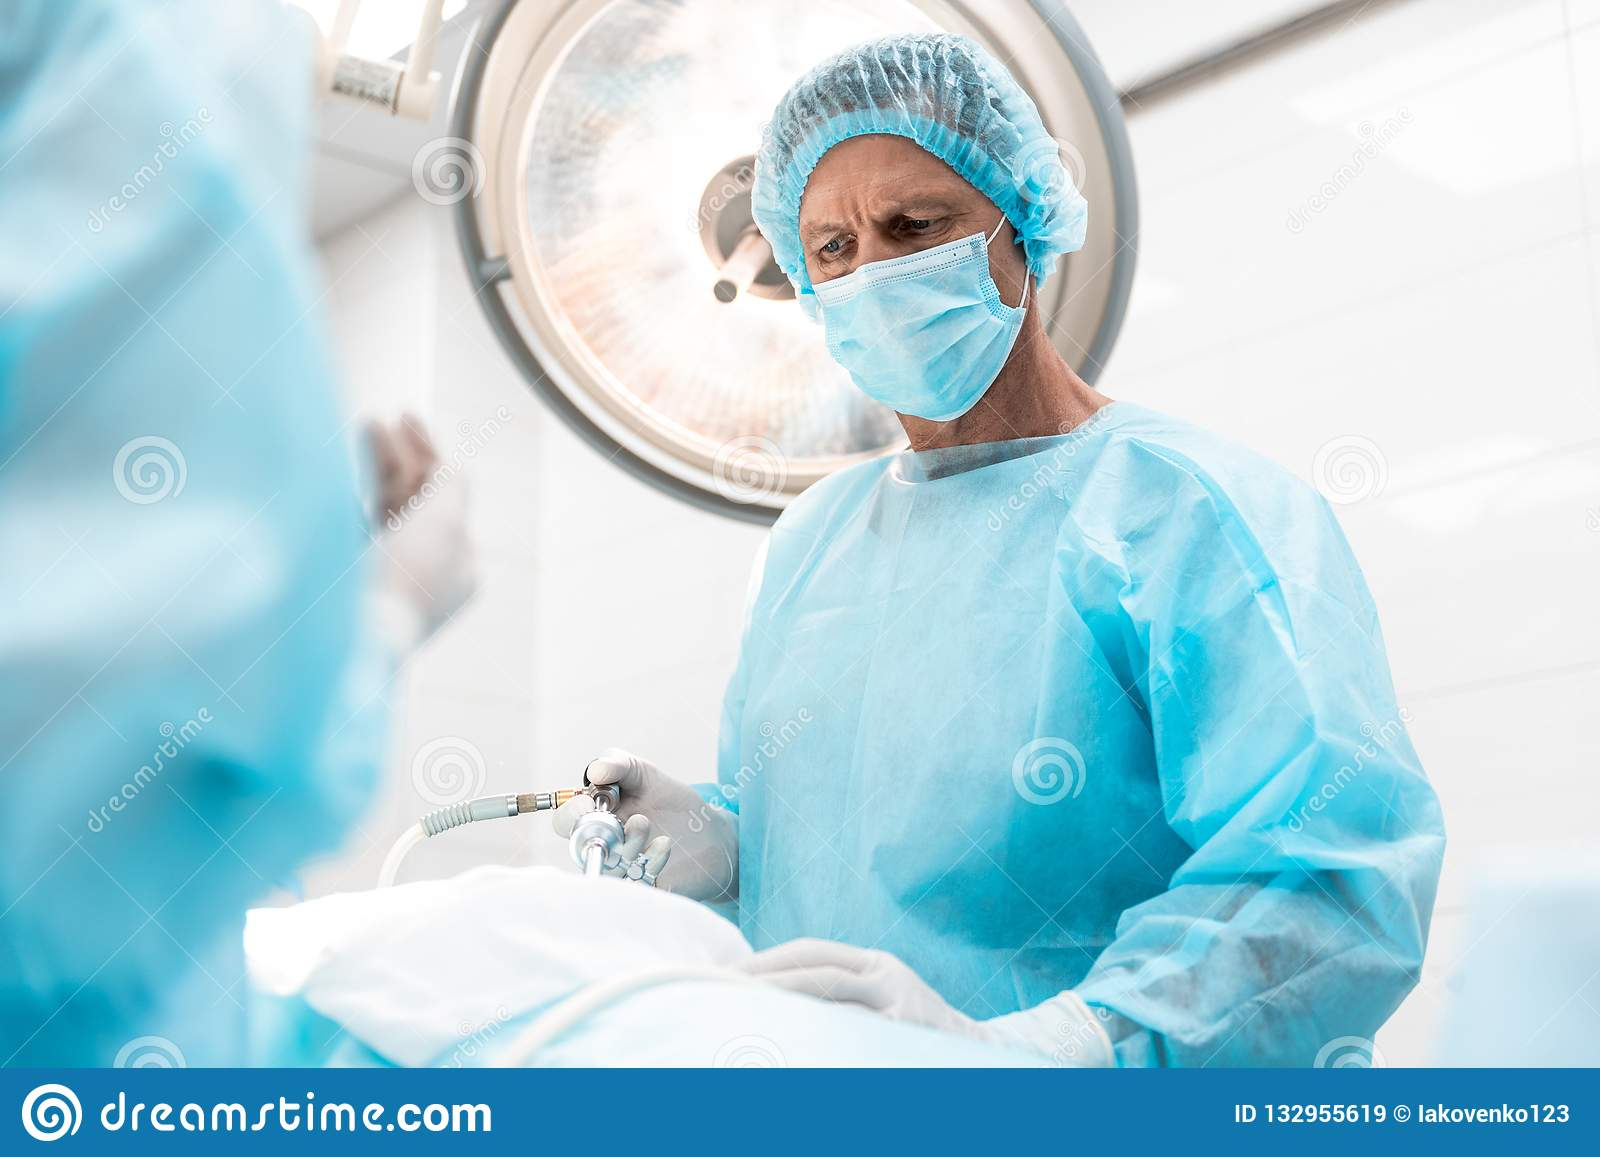mask: (805, 254, 993, 416)
